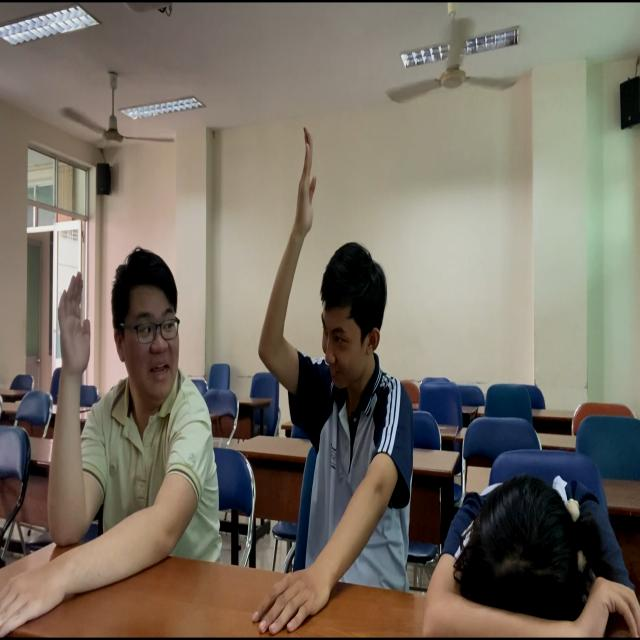raise_hand: (244, 119, 397, 640)
sleep: (393, 391, 639, 640)
